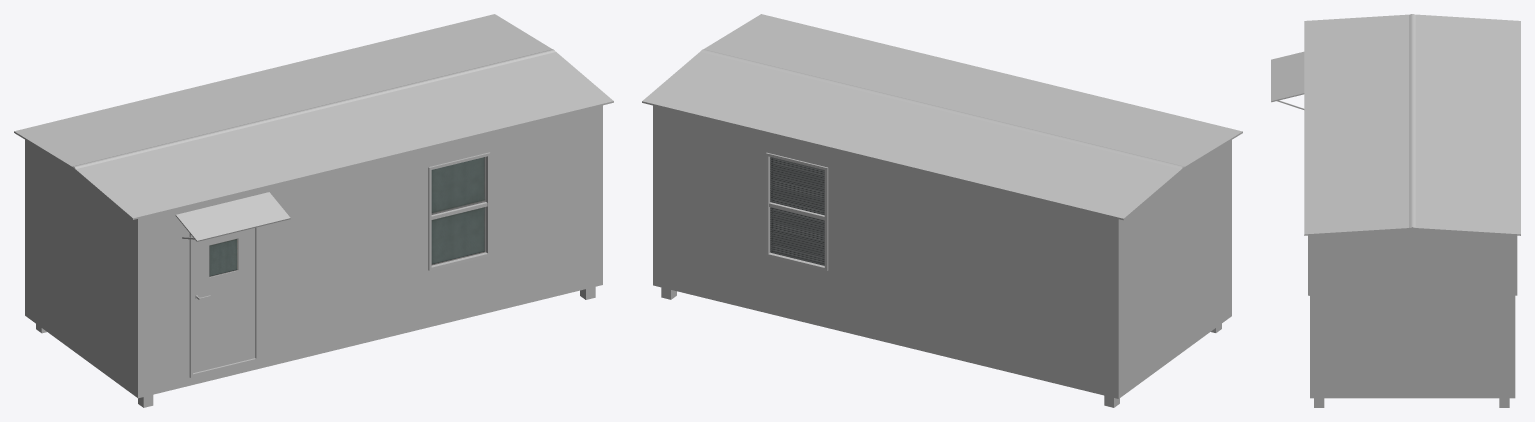
File: office_container_1.fbx
3 views of the same model, side by side, from view 1: azimuth 30°, elevation 25°; view 2: azimuth 150°, elevation 25°; view 3: azimuth 270°, elevation 25° (orthographic). The views are drawn at different scales.
Visible parts, largest first — view 1: office_container; view 2: office_container; view 3: office_container.
Boxes of the visible parts, x1,y1,x2,y2 form: office_container: [14, 14, 613, 407]; office_container: [642, 14, 1242, 407]; office_container: [1271, 14, 1520, 407].
Size of the model in its own units: 422 by 172 by 209.
